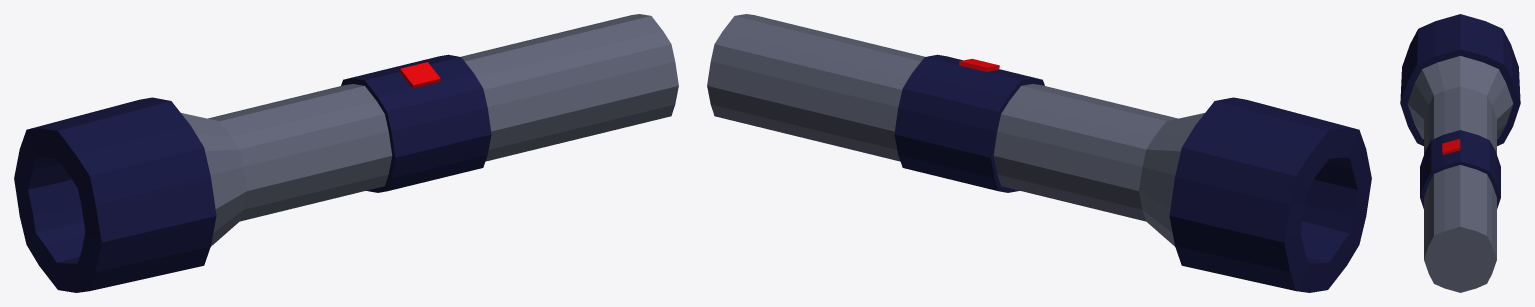
The model's file is Lanterna_A01.fbx.
3 renders of one model, left to right at view 1: azimuth 30°, elevation 25°; view 2: azimuth 150°, elevation 25°; view 3: azimuth 270°, elevation 25°, orthographic. The views are drawn at different scales.
Parts seen in each view (by area): view 1: Cube; view 2: Cube; view 3: Cube.
Part boxes in pixels (bbox=[...]): Cube: bbox=[14, 14, 678, 292]; Cube: bbox=[707, 14, 1371, 292]; Cube: bbox=[1400, 14, 1520, 292].
Size of the model in its own units: 10.57 by 2.78 by 2.78.
